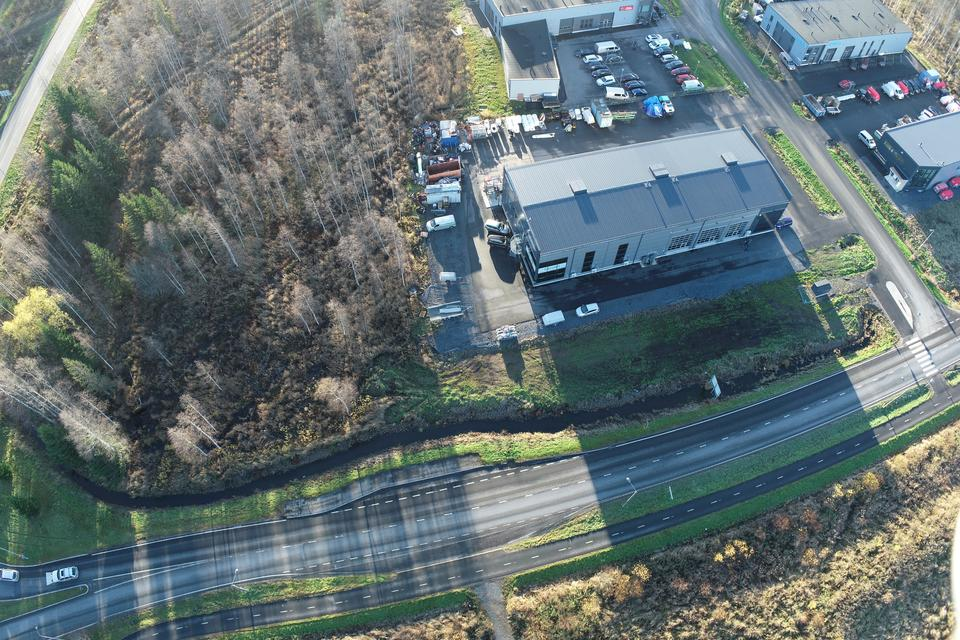intersection: (420, 439, 541, 627), (861, 282, 960, 498)
